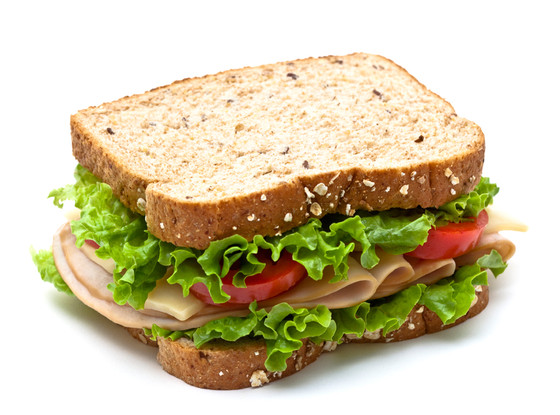chopped lettuce: (106, 212, 452, 242), (219, 284, 489, 304)
slice of bread: (76, 97, 486, 205)
